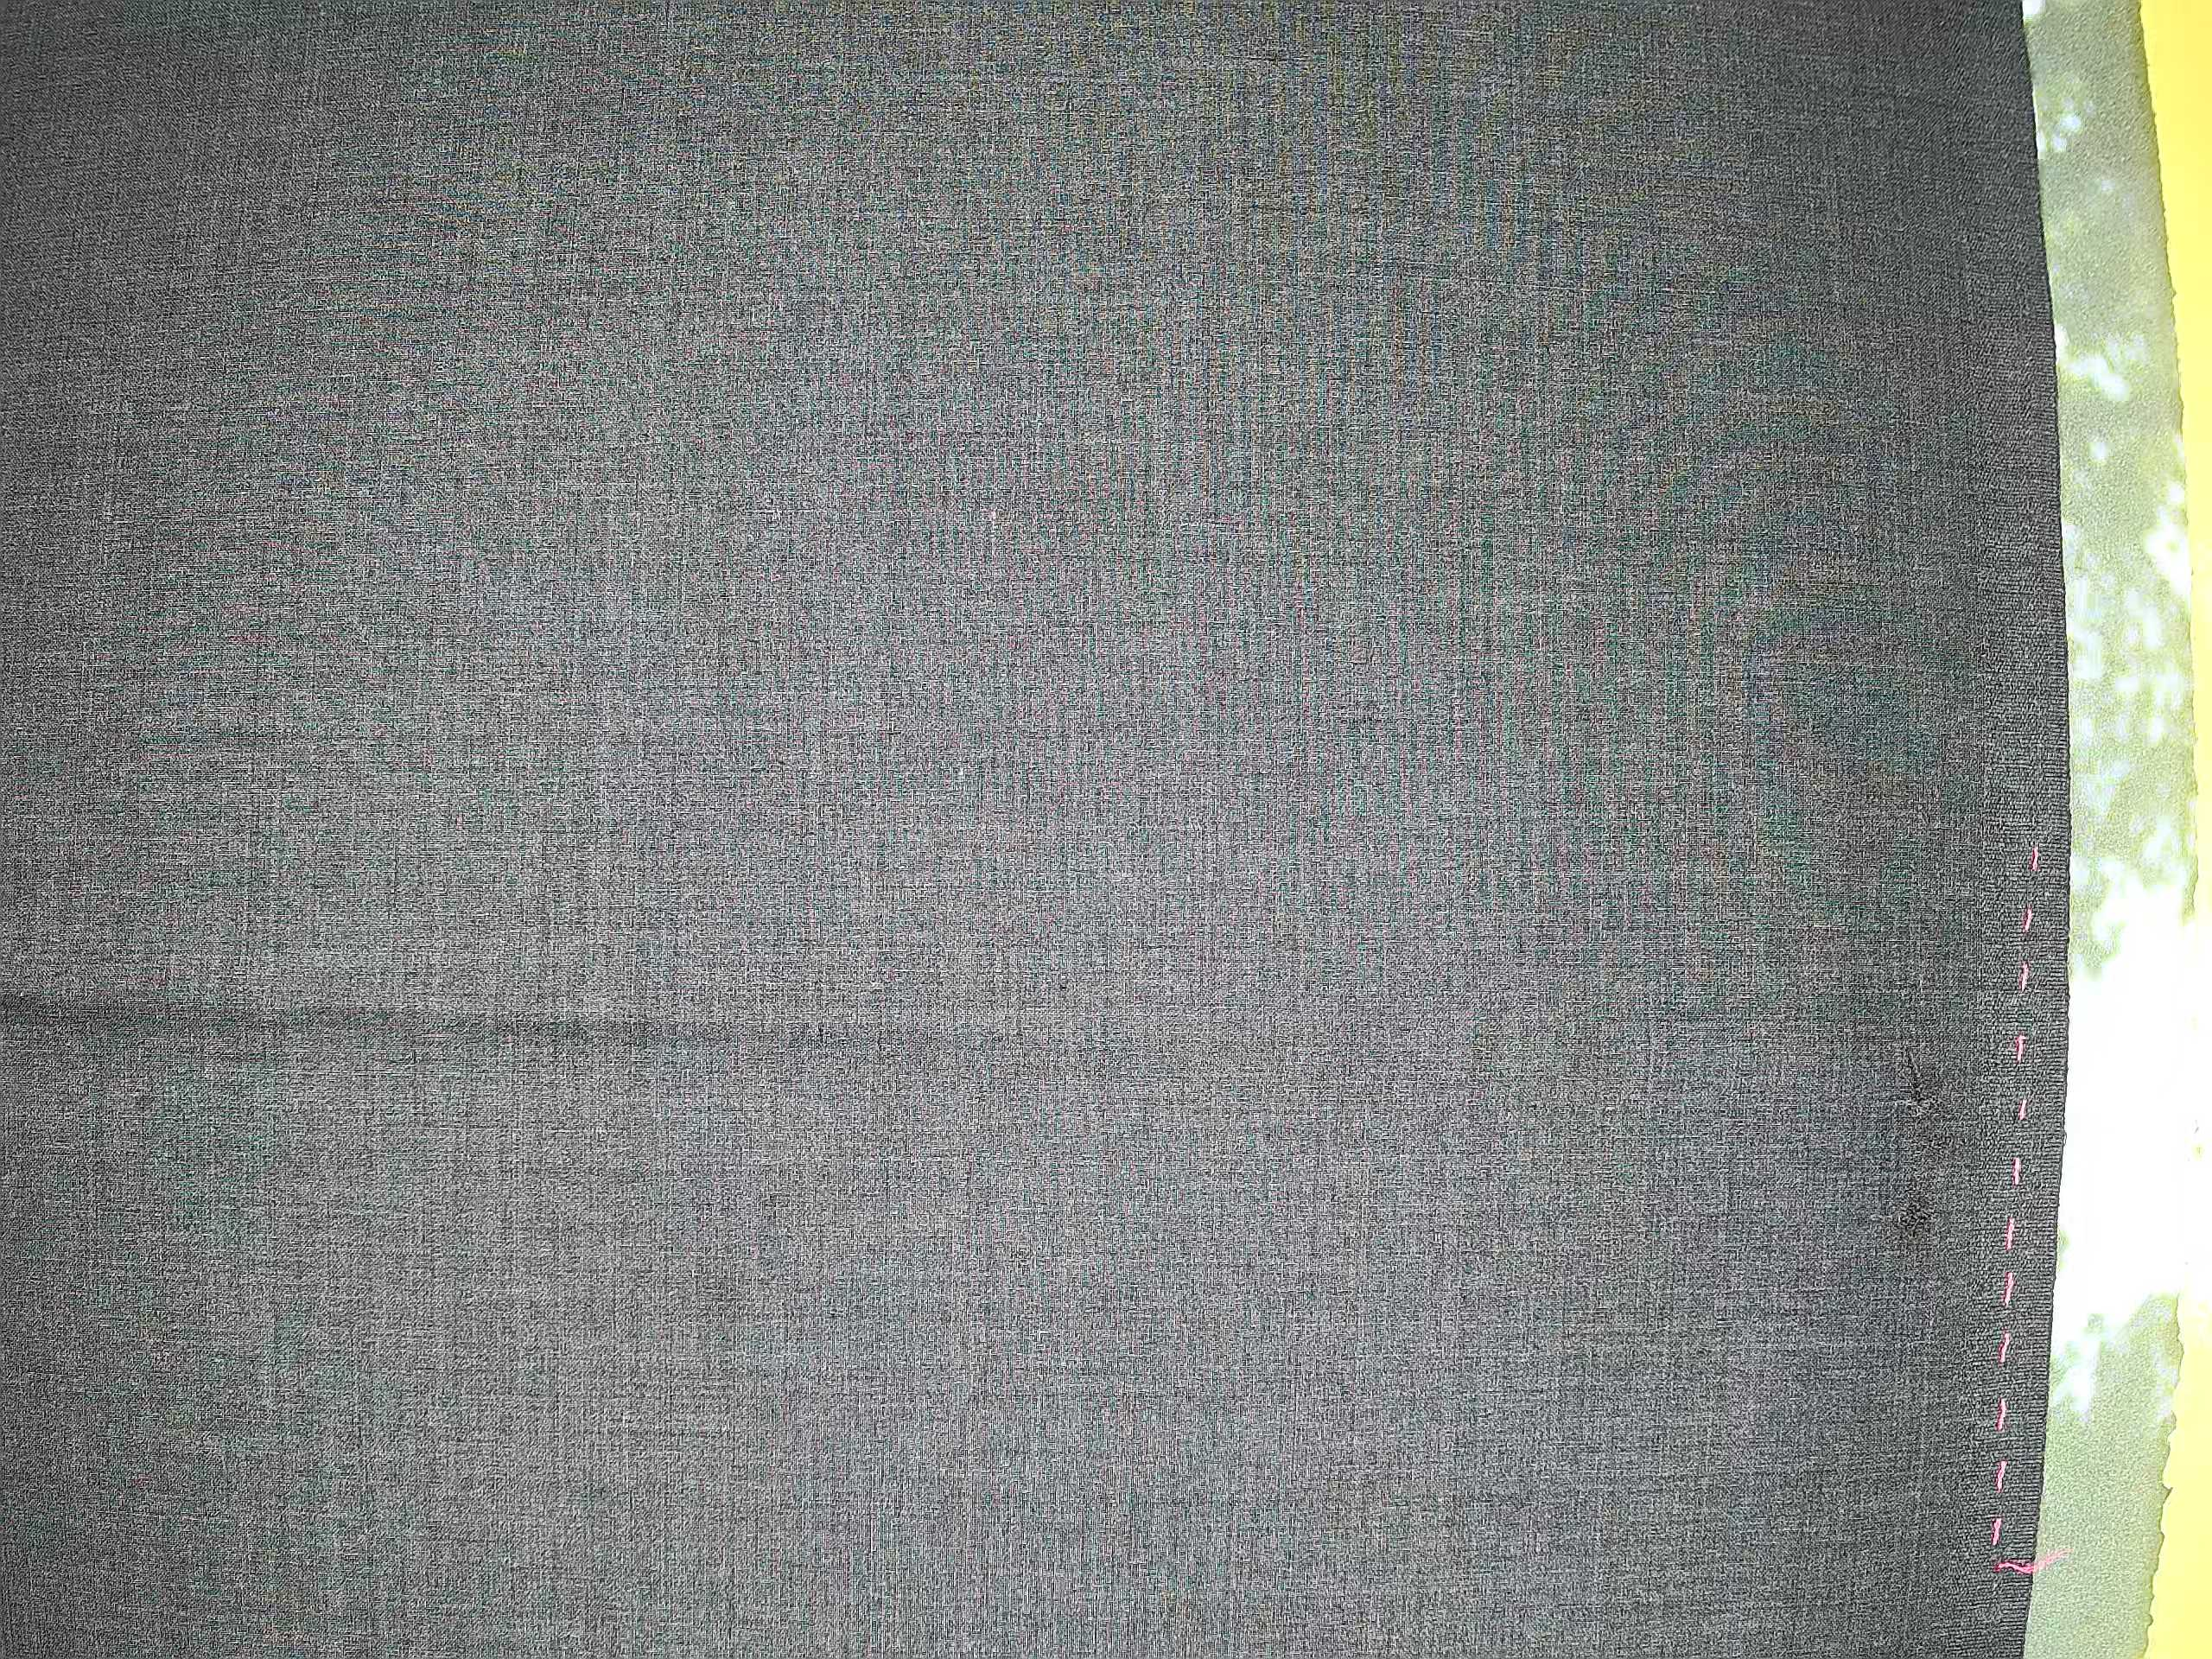hanging-warp: (1872, 1030, 1965, 1290)
